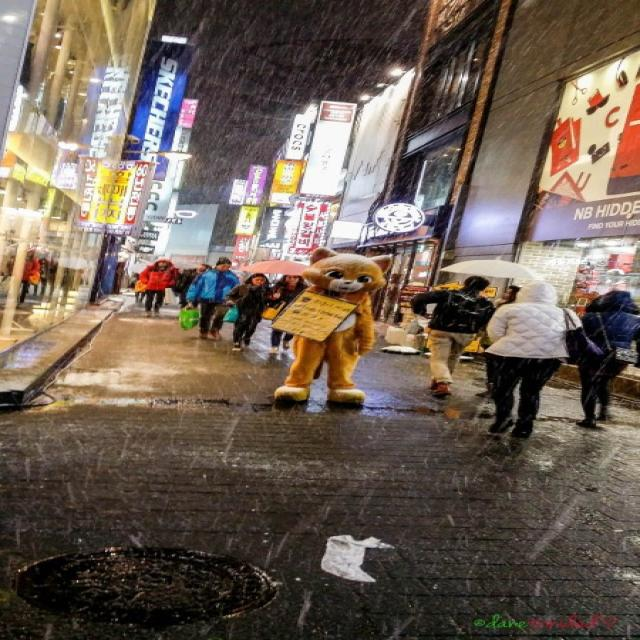body: (260, 244, 397, 406), (481, 278, 587, 438), (408, 274, 496, 400), (564, 288, 638, 430), (472, 284, 524, 399), (179, 255, 242, 343), (0, 242, 88, 302), (220, 272, 283, 353), (266, 272, 311, 358), (132, 257, 178, 318), (182, 265, 218, 318), (570, 266, 640, 289), (129, 270, 148, 304)
